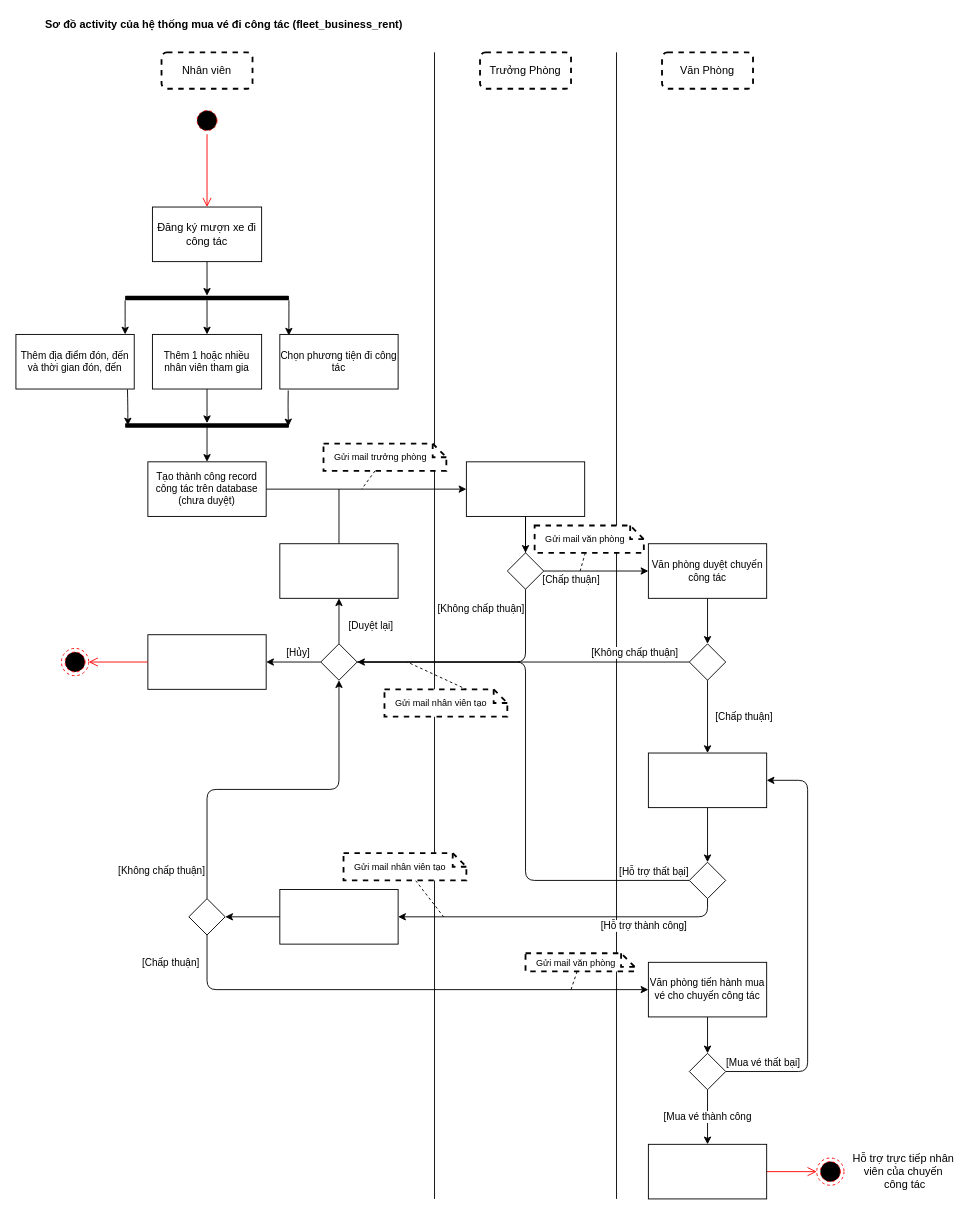
Image size: 978x1216. Some labels were removed from this diagram. Here are the shapes that lost their labels. From the top down, the box of each, then its label:
(465, 461, 585, 516): Trưởng phòng duyệt chuyến công tác
(279, 543, 398, 598): Chỉnh sửa lại record công tác và yêu cầu duyệt lại
(147, 634, 266, 689): Hủy vĩnh viễn chuyến công tác
(647, 752, 767, 808): Cập nhật record công tác hỗ trợ chuyến công tác và lên kế hoạch mua vé
(279, 889, 398, 944): Nhân viên tạo chuyến xem lại thông tin và duyệt cuối cùng
(647, 1143, 767, 1199): Gửi mail đến các nhân viên và chuyên viên tham dự công tác
